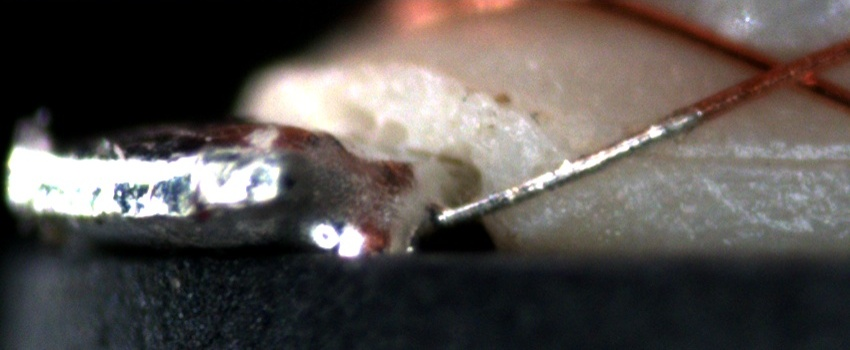CL: (733, 42, 823, 98)
DL: (650, 132, 850, 184)
TS: (436, 108, 699, 227)
